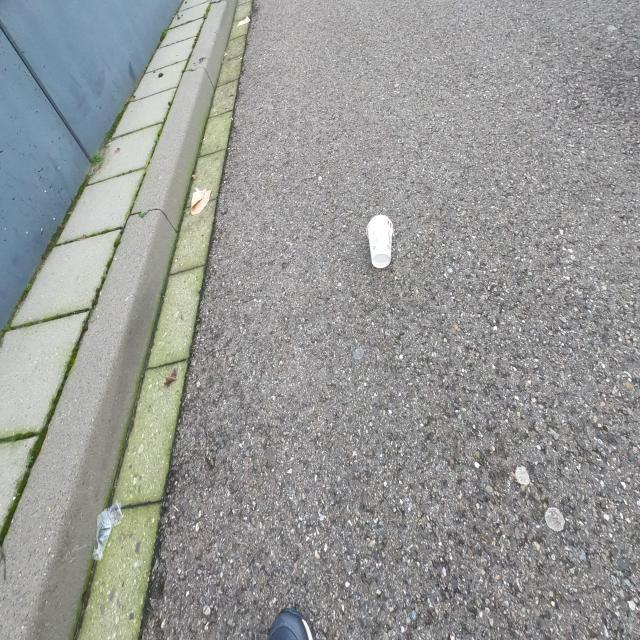Cup: (365, 214, 395, 272)
Paper: (191, 188, 212, 215)
Plastic: (91, 498, 124, 562)
